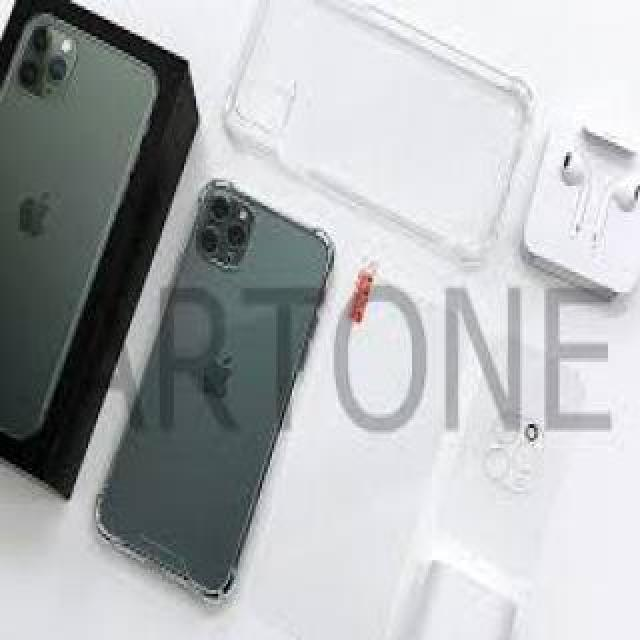earphone: (511, 80, 640, 325)
smart phone: (0, 0, 230, 524), (102, 144, 354, 611)
